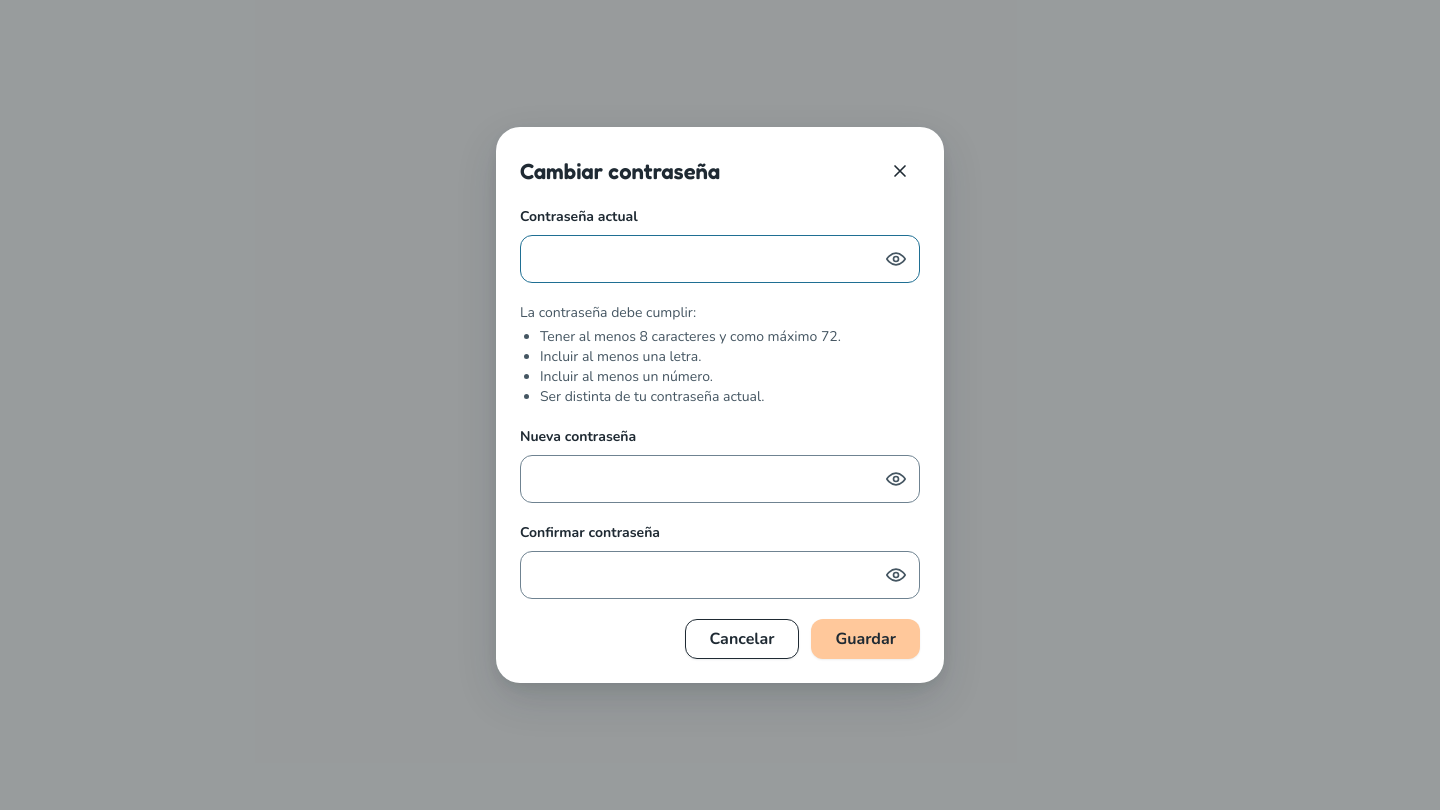
Test case: ChangePasswordDialog › no envía si la nueva es igual a la actual
The width and height of the screenshot is (1440, 810).
Type "clave1234" into the password field labelled "Contraseña actual".
click(720, 259); type("clave1234")  # box [520,235,920,283]
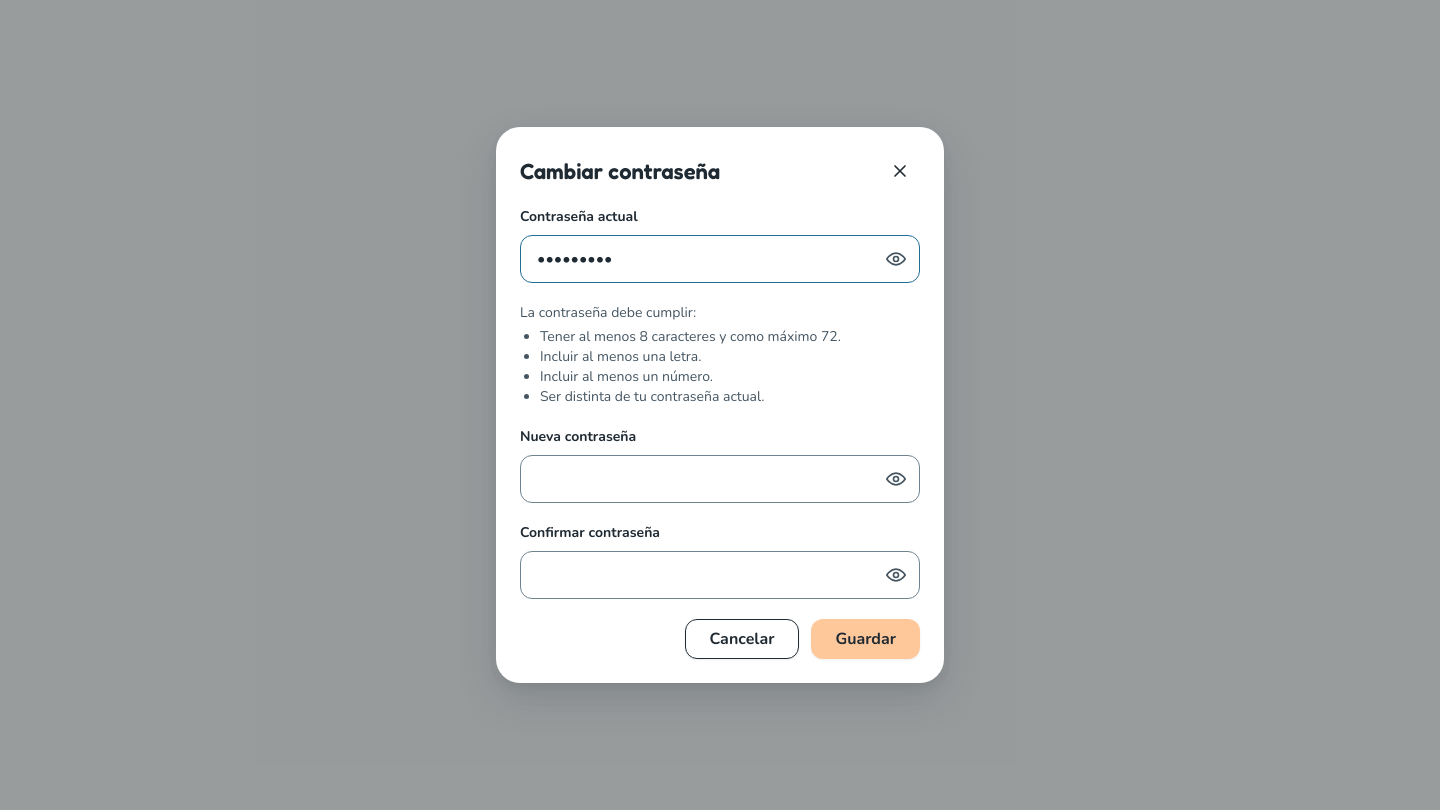
Type "clave1234" into the password field labelled "Nueva contraseña".
click(720, 479); type("clave1234")  # box [520,455,920,503]
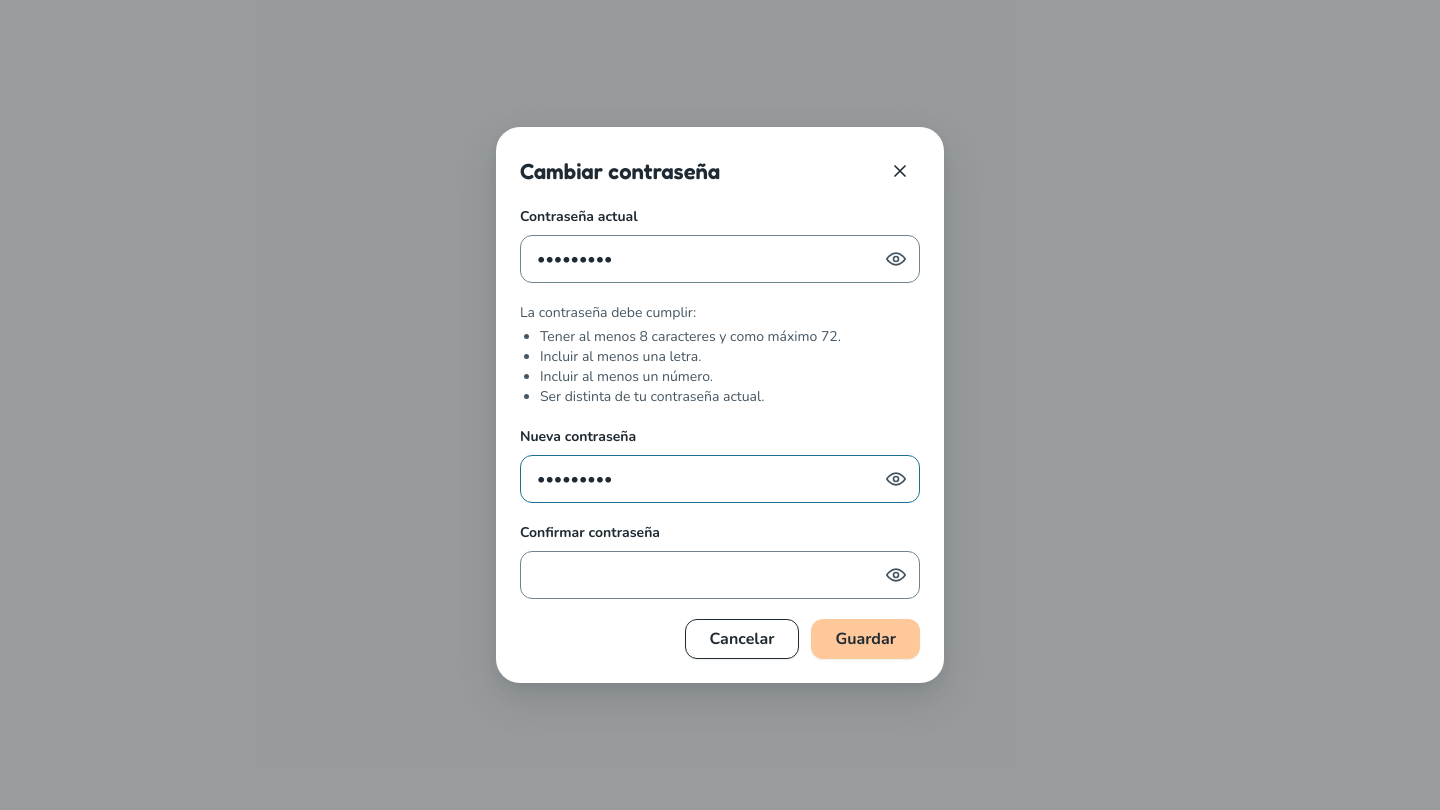
Type "clave1234" into the password field labelled "Confirmar contraseña".
click(720, 575); type("clave1234")  # box [520,551,920,599]
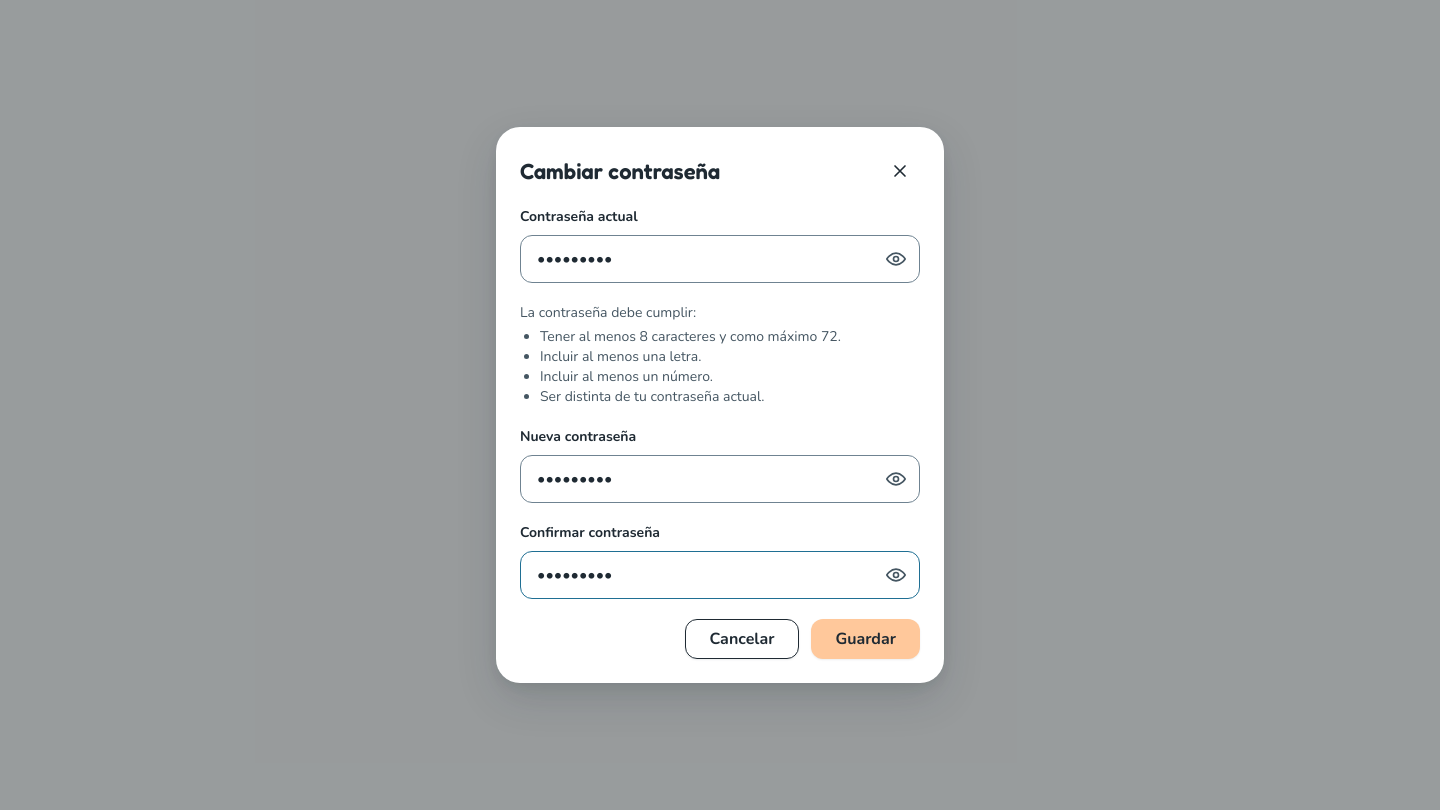
Click the button "Guardar".
click(866, 639)  # box [811,619,920,659]
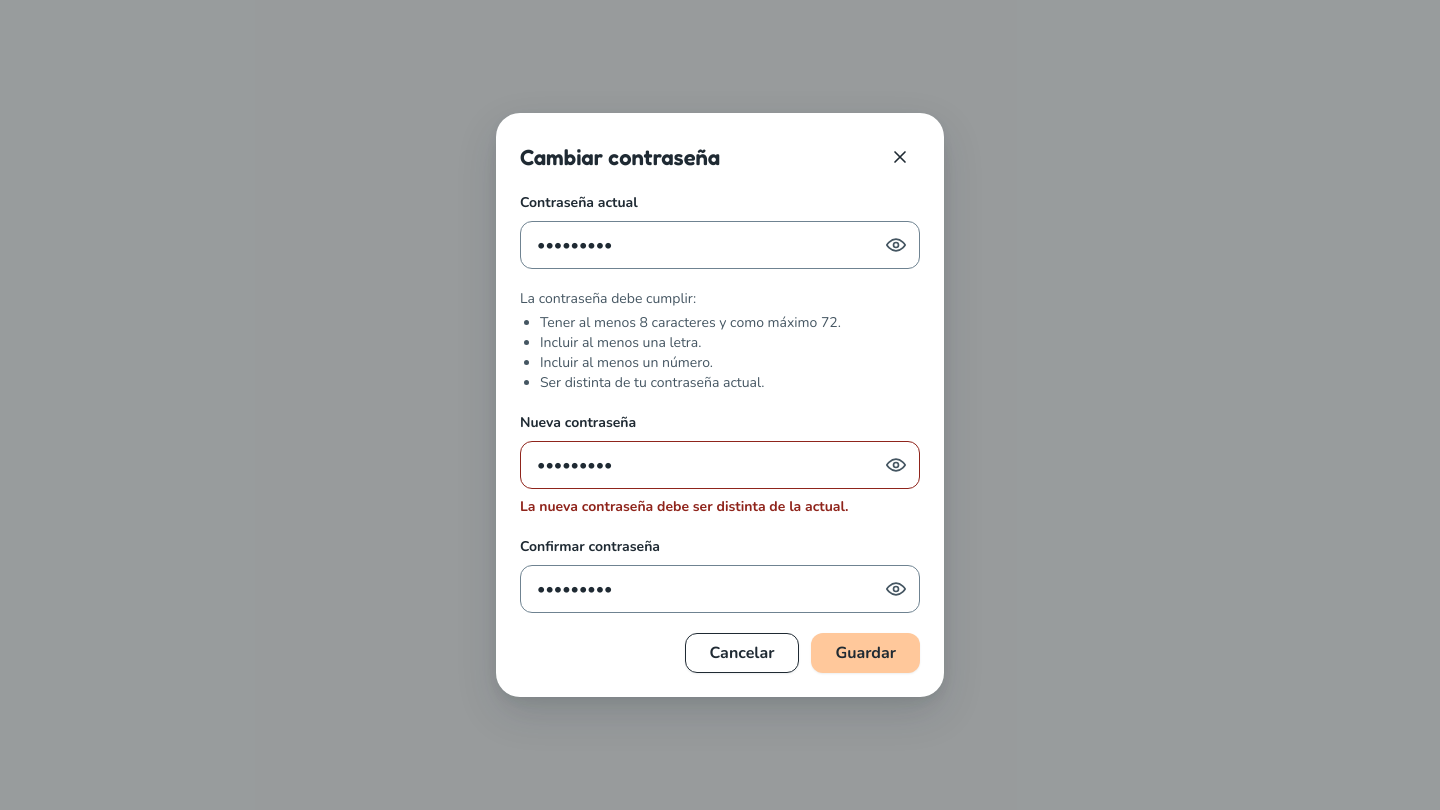
Expected: the text "La nueva contraseña debe ser distinta de la actual." is shown, [520,497,849,516]
